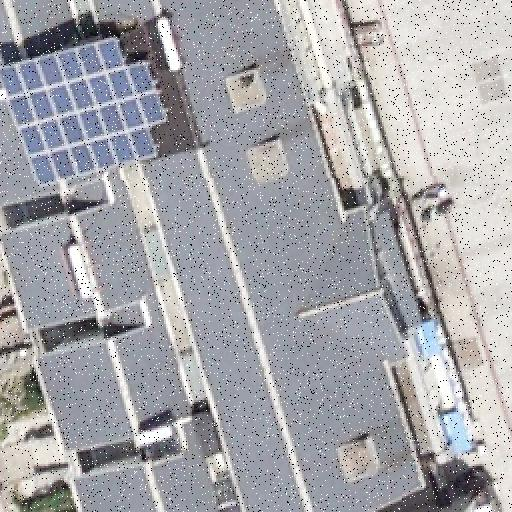solar-panel: (4, 34, 180, 186)
